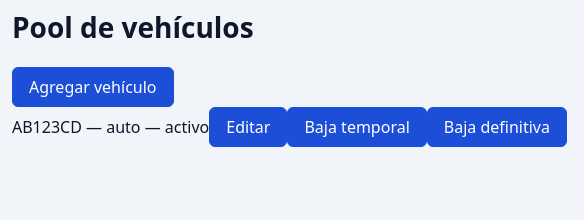
it: VehiculosAdminPage › dispara la baja definitiva y actualiza el estado tras el éxito
The image size is (584, 220).
expect the text "AB123CD — auto — activo" is shown: met, box [12,116,209,138]
Click the button "Baja definitiva": (497, 126) [427,106,567,146]
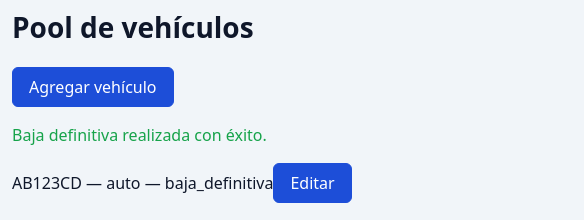
expect the text "AB123CD — auto — baja_definitiva" is shown: met, box [12,172,273,194]
expect the message shows "éxito": met, box [12,124,267,146]
